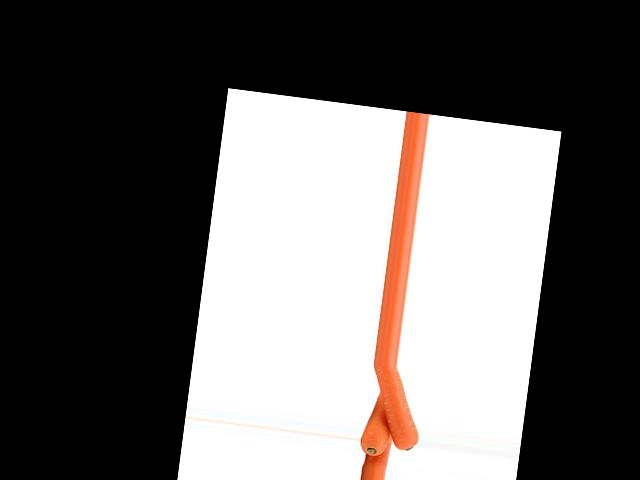carrot: (360, 387, 395, 461)
